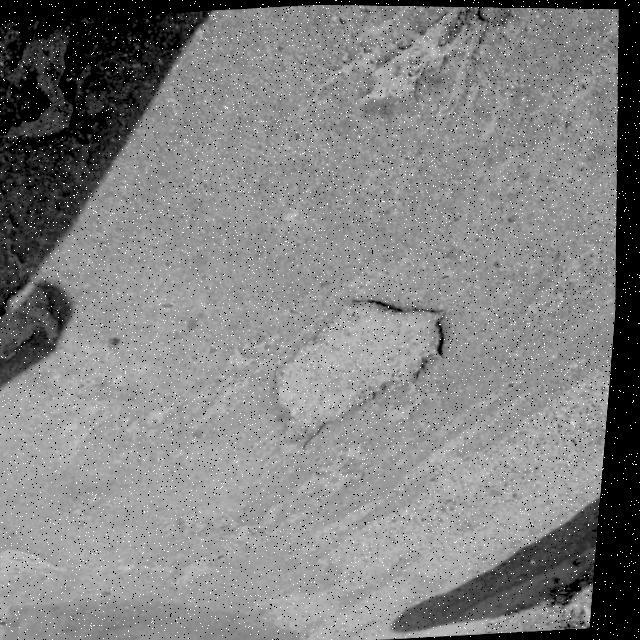pothole: (253, 276, 474, 464), (320, 4, 506, 111), (0, 15, 98, 154)
